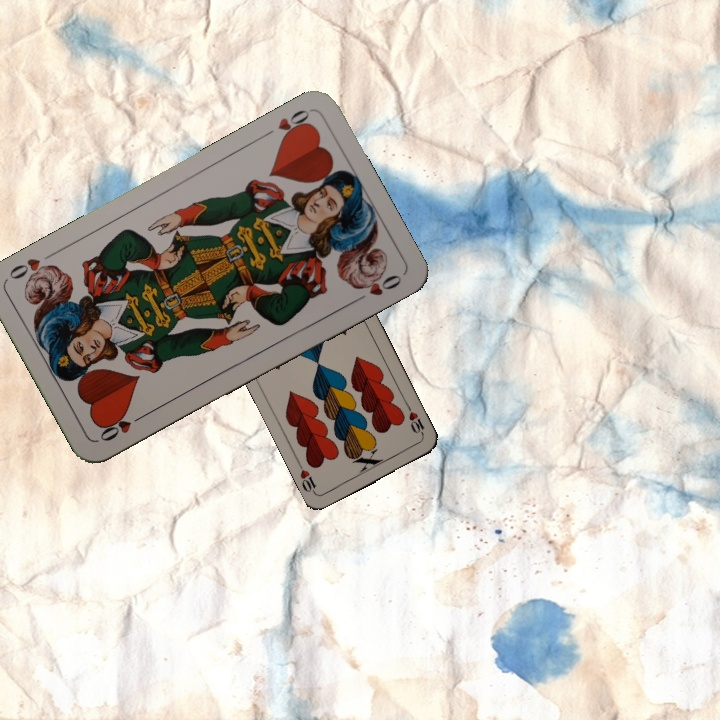H10: (403, 402, 427, 440)
HO: (258, 105, 314, 144), (95, 409, 149, 444)
